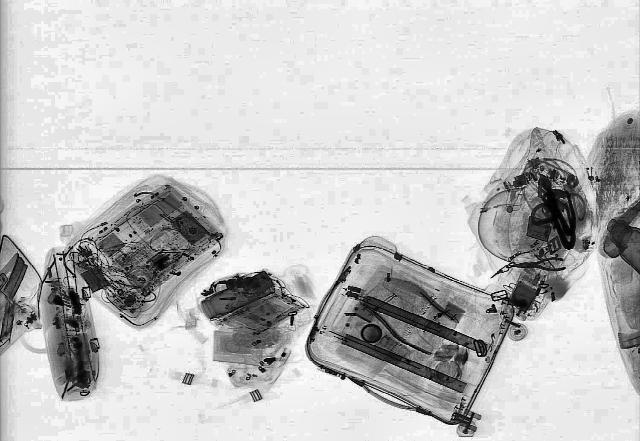Pliers: (508, 257, 566, 273)
